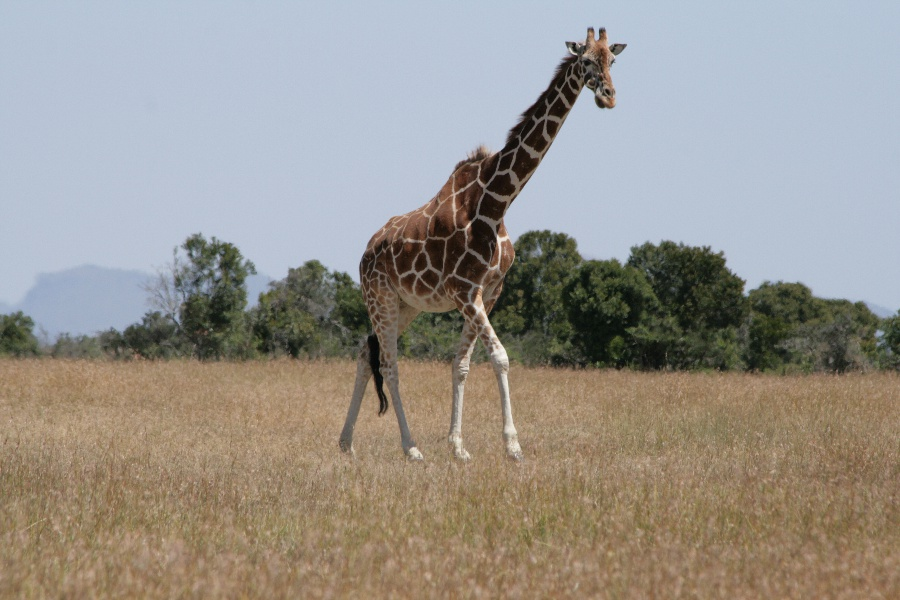giraffe: (329, 22, 633, 463)
